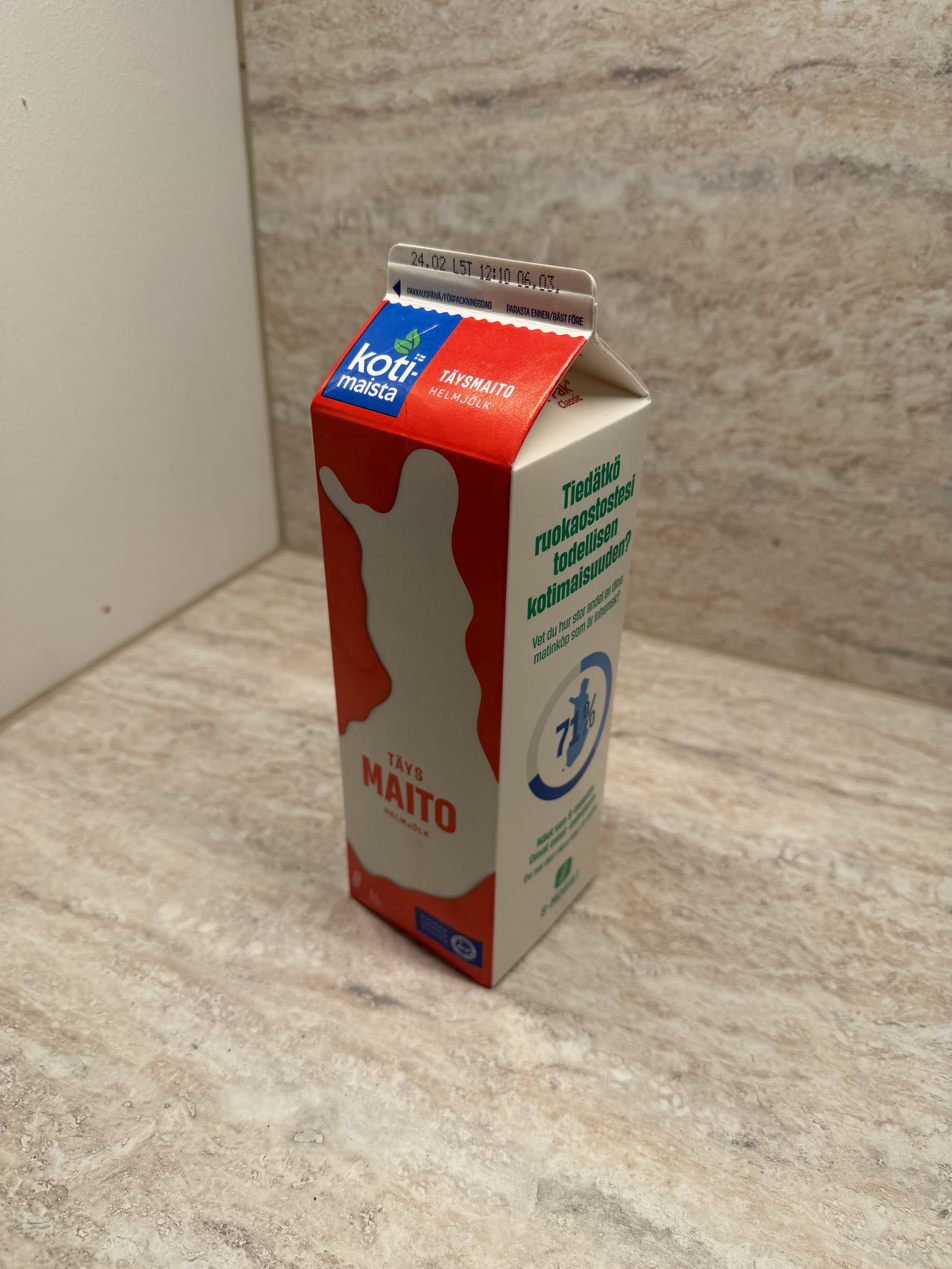Dryckeskartong: (295, 219, 656, 1005)
